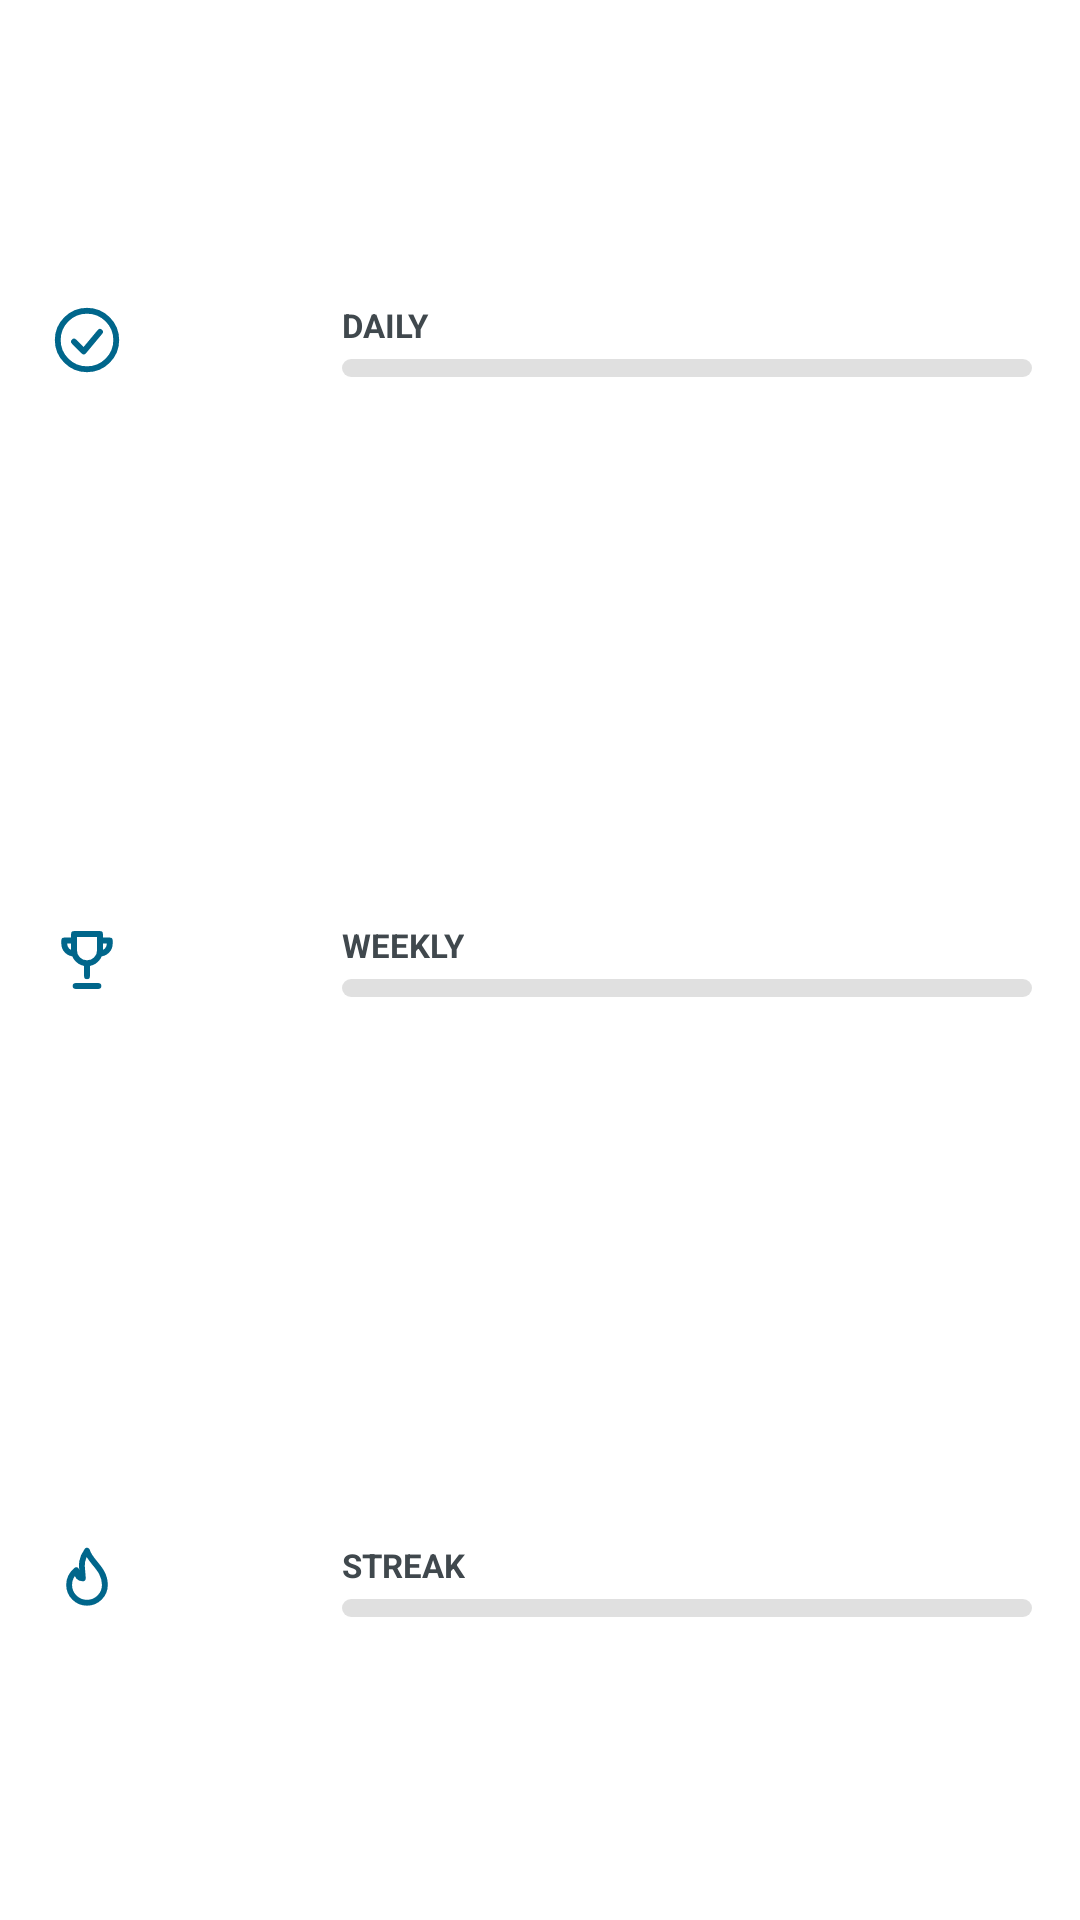

Icon bounding boxes for this 1080 x 1920 phone screenshot, format Rect(x1, y1, x2, y2):
widget streak: Rect(66, 1547, 108, 1606)
